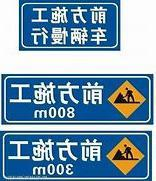sign: (3, 75, 151, 124), (1, 132, 150, 180), (20, 2, 118, 49)
